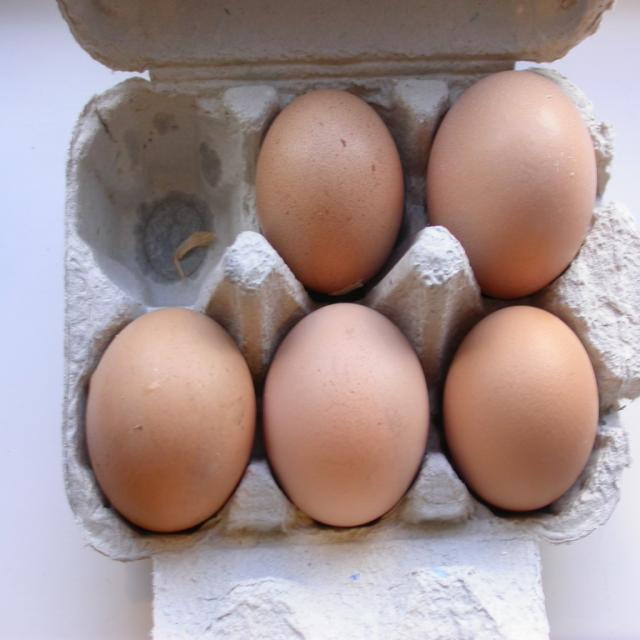Egg: (256, 68, 598, 536), (84, 300, 257, 540)
